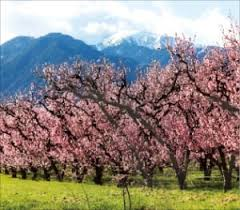field: (1, 164, 240, 209)
flower: (9, 67, 240, 167)
mountain: (4, 25, 220, 90)
tree: (19, 71, 237, 179)
